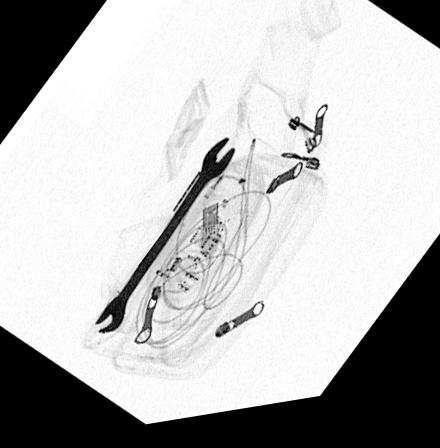Wrench: (93, 145, 232, 339)
